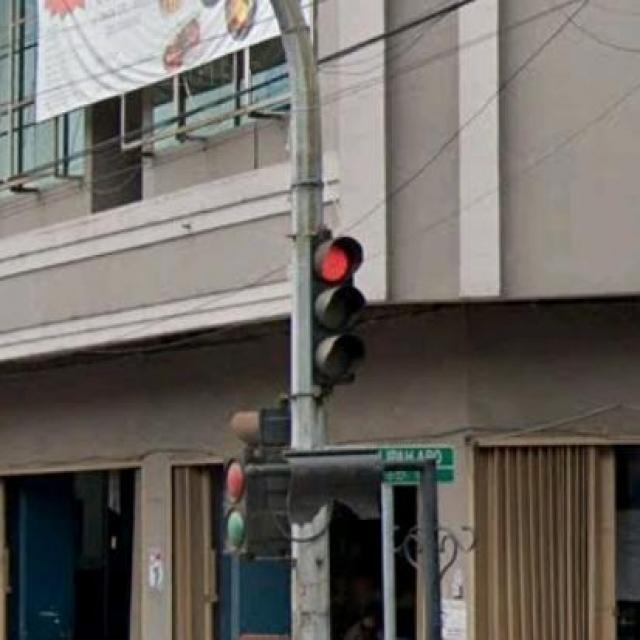red_light: (313, 234, 358, 386)
